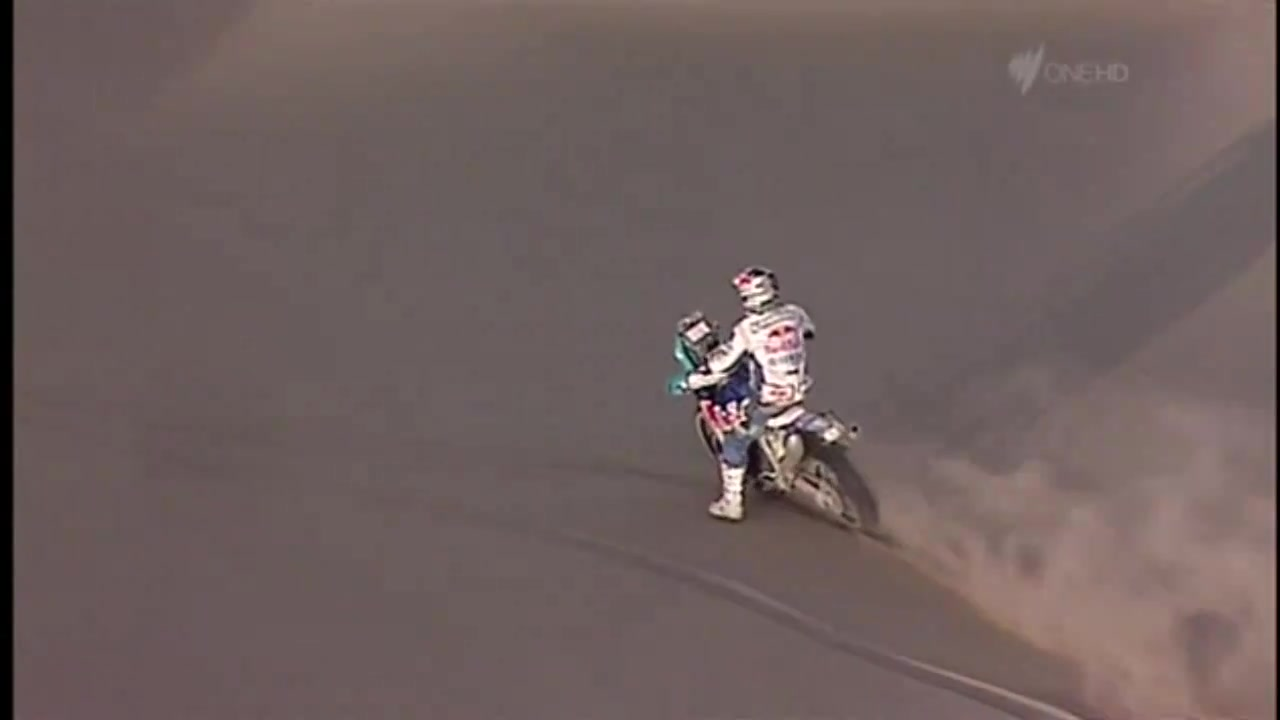motorbike: (665, 310, 882, 535)
